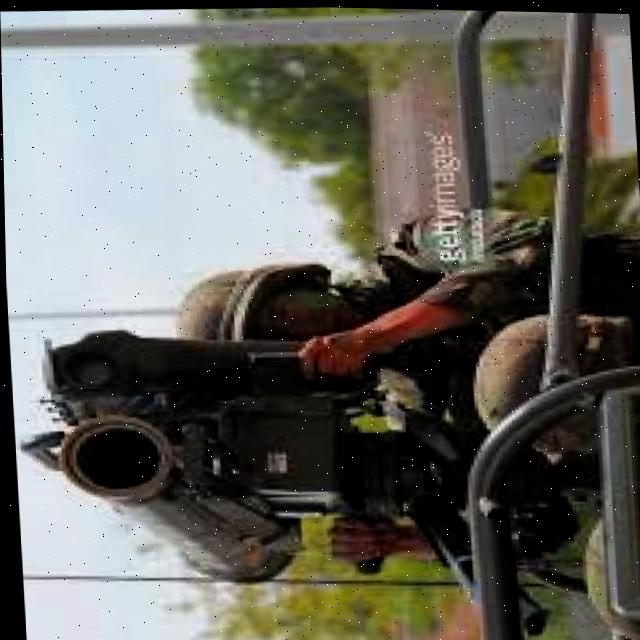rocket: (45, 411, 290, 587)
